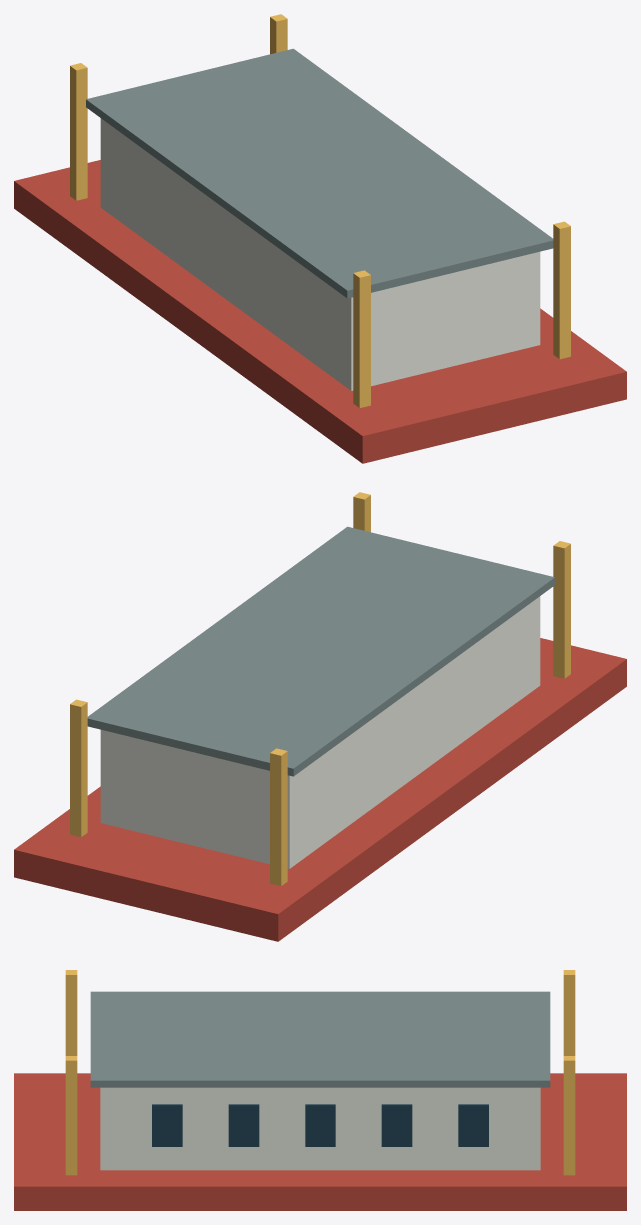
The model's file is industrial_payload.glb.
The picture shows the model from 3 angles, top to bottom: view 1: azimuth 30°, elevation 25°; view 2: azimuth 150°, elevation 25°; view 3: azimuth 270°, elevation 25°; orthographic projection. The views are drawn at different scales.
Visible parts, largest first — view 1: MESH_payload_top, MESH_payload_base, MESH_payload_machine, MESH_payload_frame_5.3_13, MESH_payload_frame_-5.3_13, MESH_payload_frame_-5.3_-13, MESH_payload_frame_5.3_-13; view 2: MESH_payload_top, MESH_payload_base, MESH_payload_machine, MESH_payload_frame_5.3_-13, MESH_payload_frame_-5.3_-13, MESH_payload_frame_-5.3_13, MESH_payload_frame_5.3_13; view 3: MESH_payload_top, MESH_payload_base, MESH_payload_machine, MESH_payload_frame_5.3_-13, MESH_payload_frame_5.3_13, MESH_payload_vent_-4, MESH_payload_vent_4, MESH_payload_vent_-8, MESH_payload_vent_0, MESH_payload_vent_8, MESH_payload_frame_-5.3_-13, MESH_payload_frame_-5.3_13.
Boxes of the visible parts, left/top/right/bottom form: MESH_payload_top: left=86, top=48, right=553, bottom=298; MESH_payload_base: left=14, top=160, right=626, bottom=463; MESH_payload_machine: left=100, top=118, right=540, bottom=390; MESH_payload_frame_5.3_13: left=553, top=221, right=570, bottom=359; MESH_payload_frame_-5.3_13: left=353, top=270, right=370, bottom=407; MESH_payload_frame_-5.3_-13: left=70, top=63, right=87, bottom=200; MESH_payload_frame_5.3_-13: left=270, top=14, right=287, bottom=54; MESH_payload_top: left=87, top=526, right=554, bottom=776; MESH_payload_base: left=14, top=638, right=626, bottom=941; MESH_payload_machine: left=100, top=596, right=540, bottom=868; MESH_payload_frame_5.3_-13: left=70, top=699, right=87, bottom=837; MESH_payload_frame_-5.3_-13: left=270, top=748, right=287, bottom=885; MESH_payload_frame_-5.3_13: left=553, top=541, right=570, bottom=678; MESH_payload_frame_5.3_13: left=353, top=492, right=370, bottom=532; MESH_payload_top: left=90, top=991, right=550, bottom=1087; MESH_payload_base: left=14, top=1073, right=626, bottom=1210; MESH_payload_machine: left=100, top=1087, right=540, bottom=1170; MESH_payload_frame_5.3_-13: left=563, top=1056, right=575, bottom=1175; MESH_payload_frame_5.3_13: left=65, top=1056, right=77, bottom=1175; MESH_payload_vent_-4: left=381, top=1104, right=412, bottom=1146; MESH_payload_vent_4: left=228, top=1104, right=259, bottom=1146; MESH_payload_vent_-8: left=458, top=1104, right=488, bottom=1146; MESH_payload_vent_0: left=305, top=1104, right=335, bottom=1146; MESH_payload_vent_8: left=152, top=1104, right=182, bottom=1146; MESH_payload_frame_-5.3_-13: left=563, top=970, right=575, bottom=1055; MESH_payload_frame_-5.3_13: left=65, top=970, right=77, bottom=1055.
Bounding box in the file's own units: 14 × 8 × 32.
